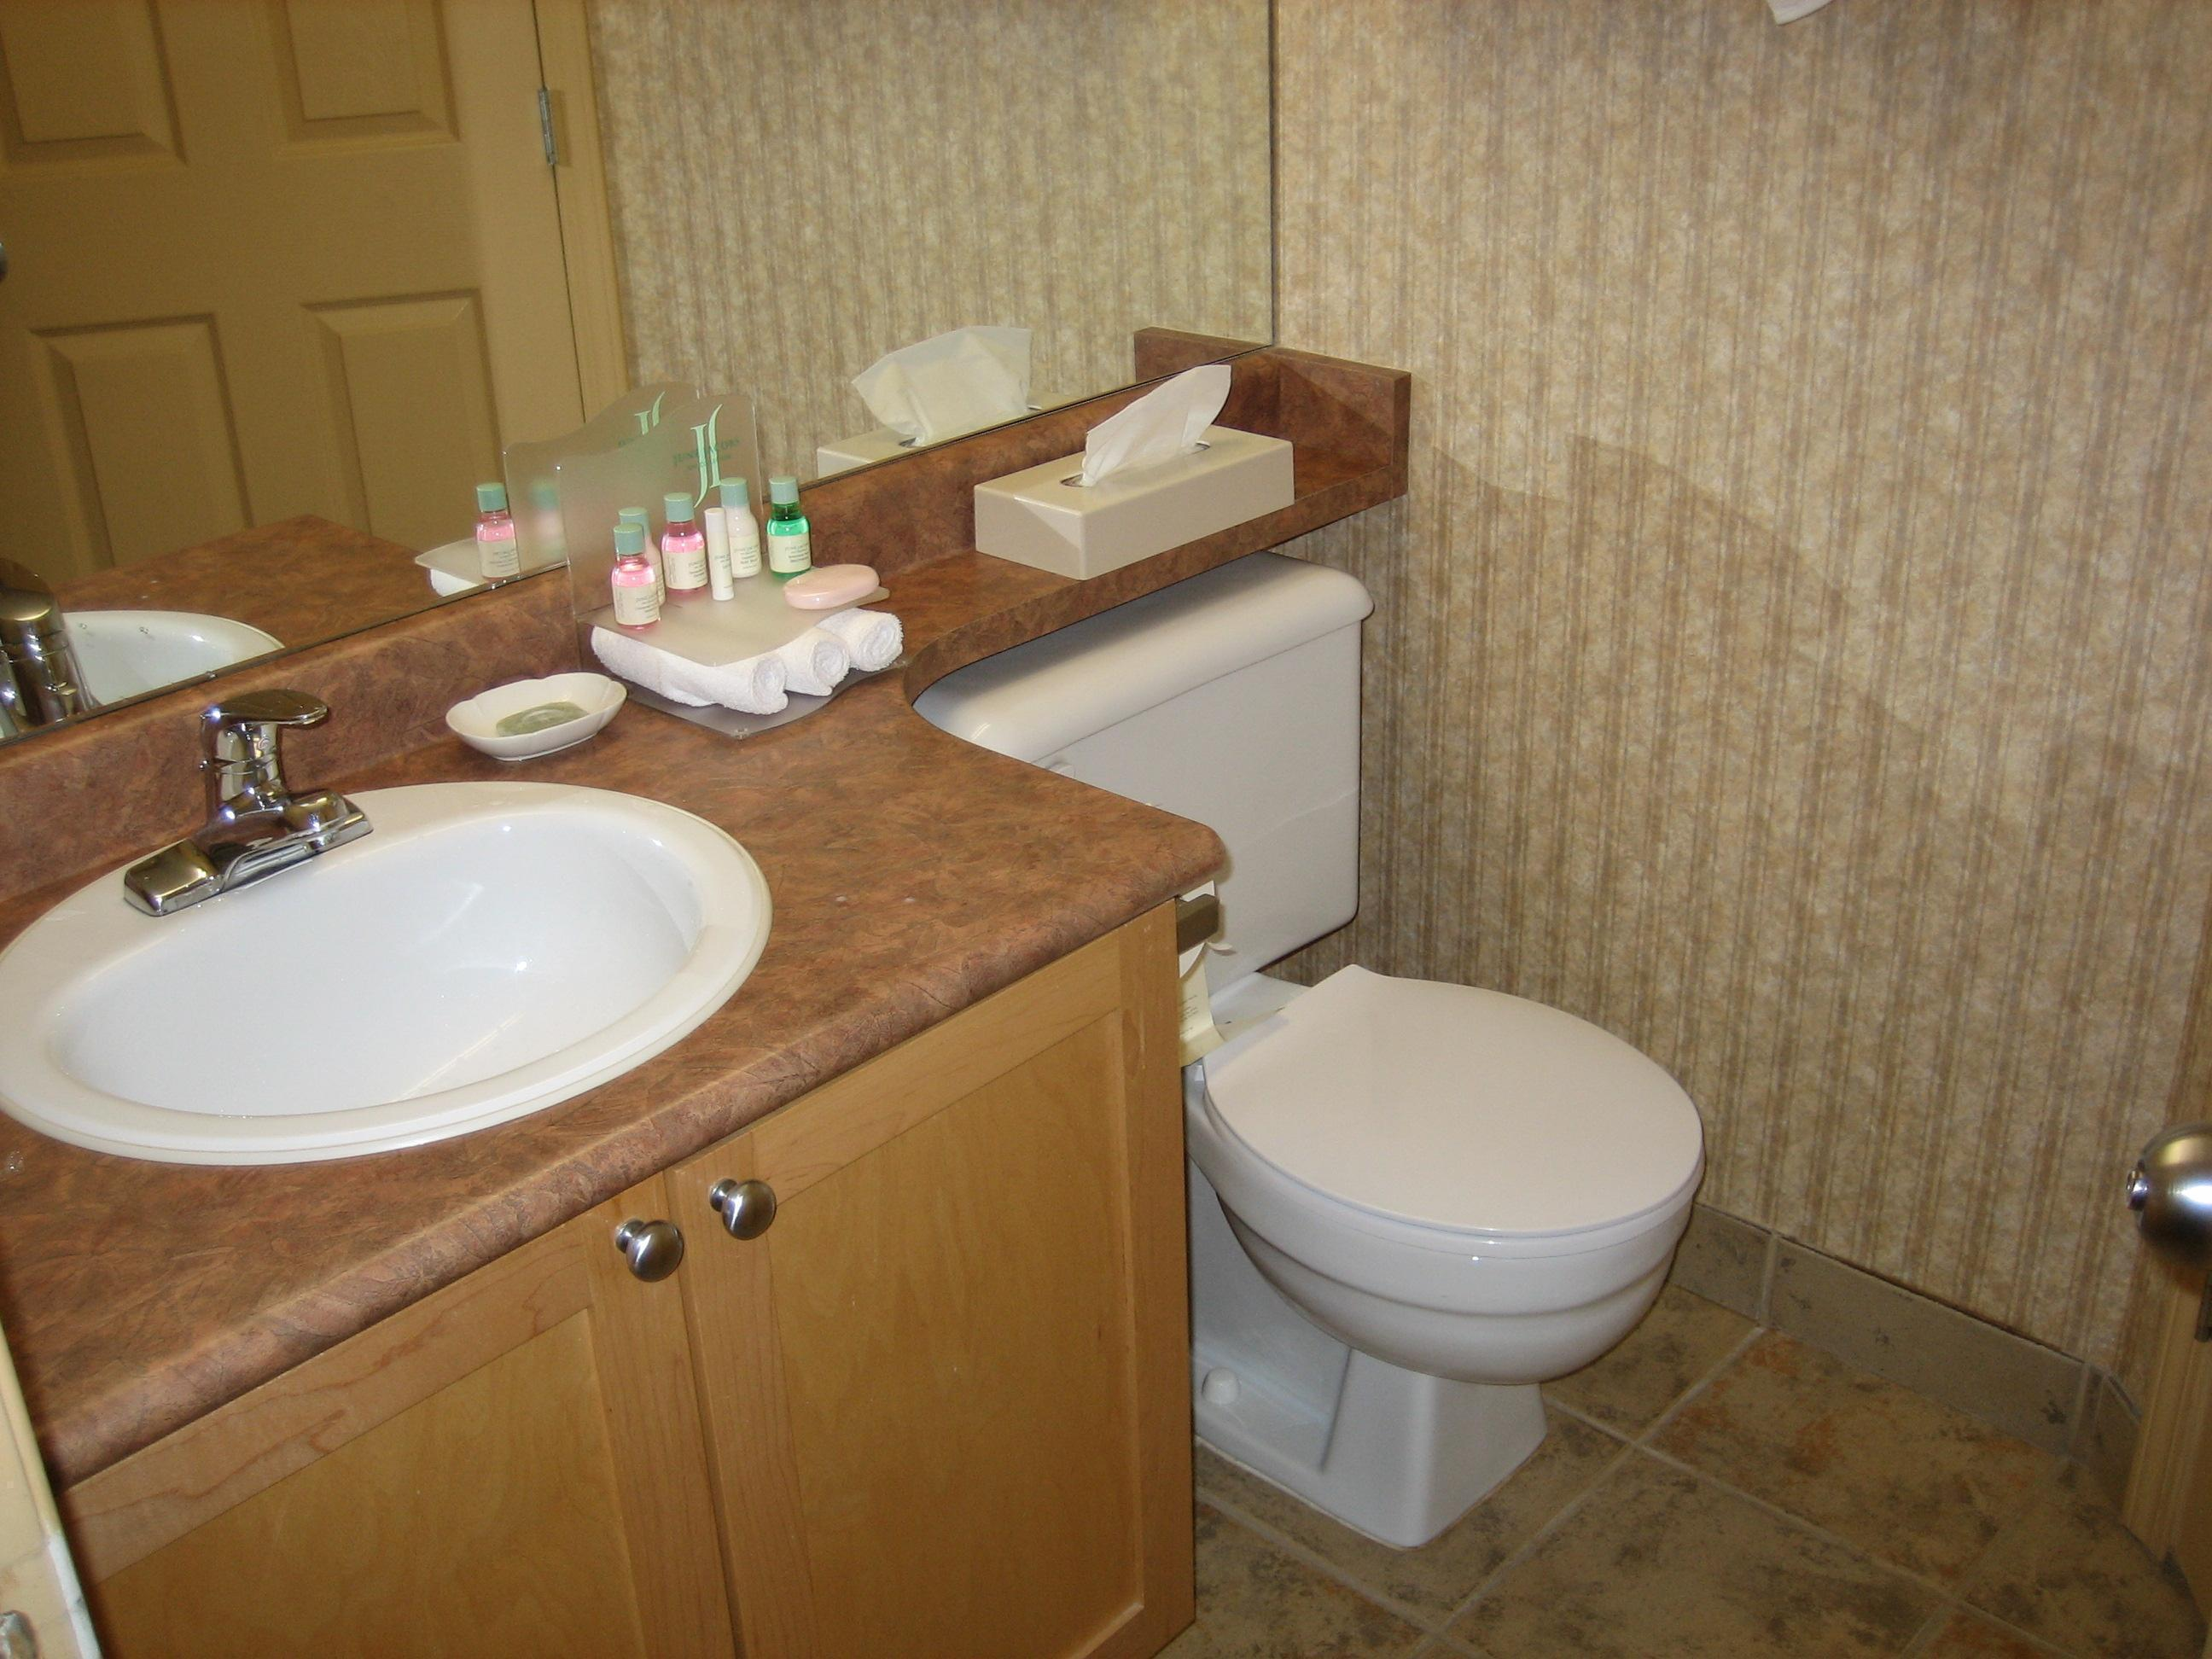Armario: (49, 742, 1195, 1638)
Lavamanos: (47, 701, 805, 1176)
Sanitario: (920, 626, 1712, 1528)
